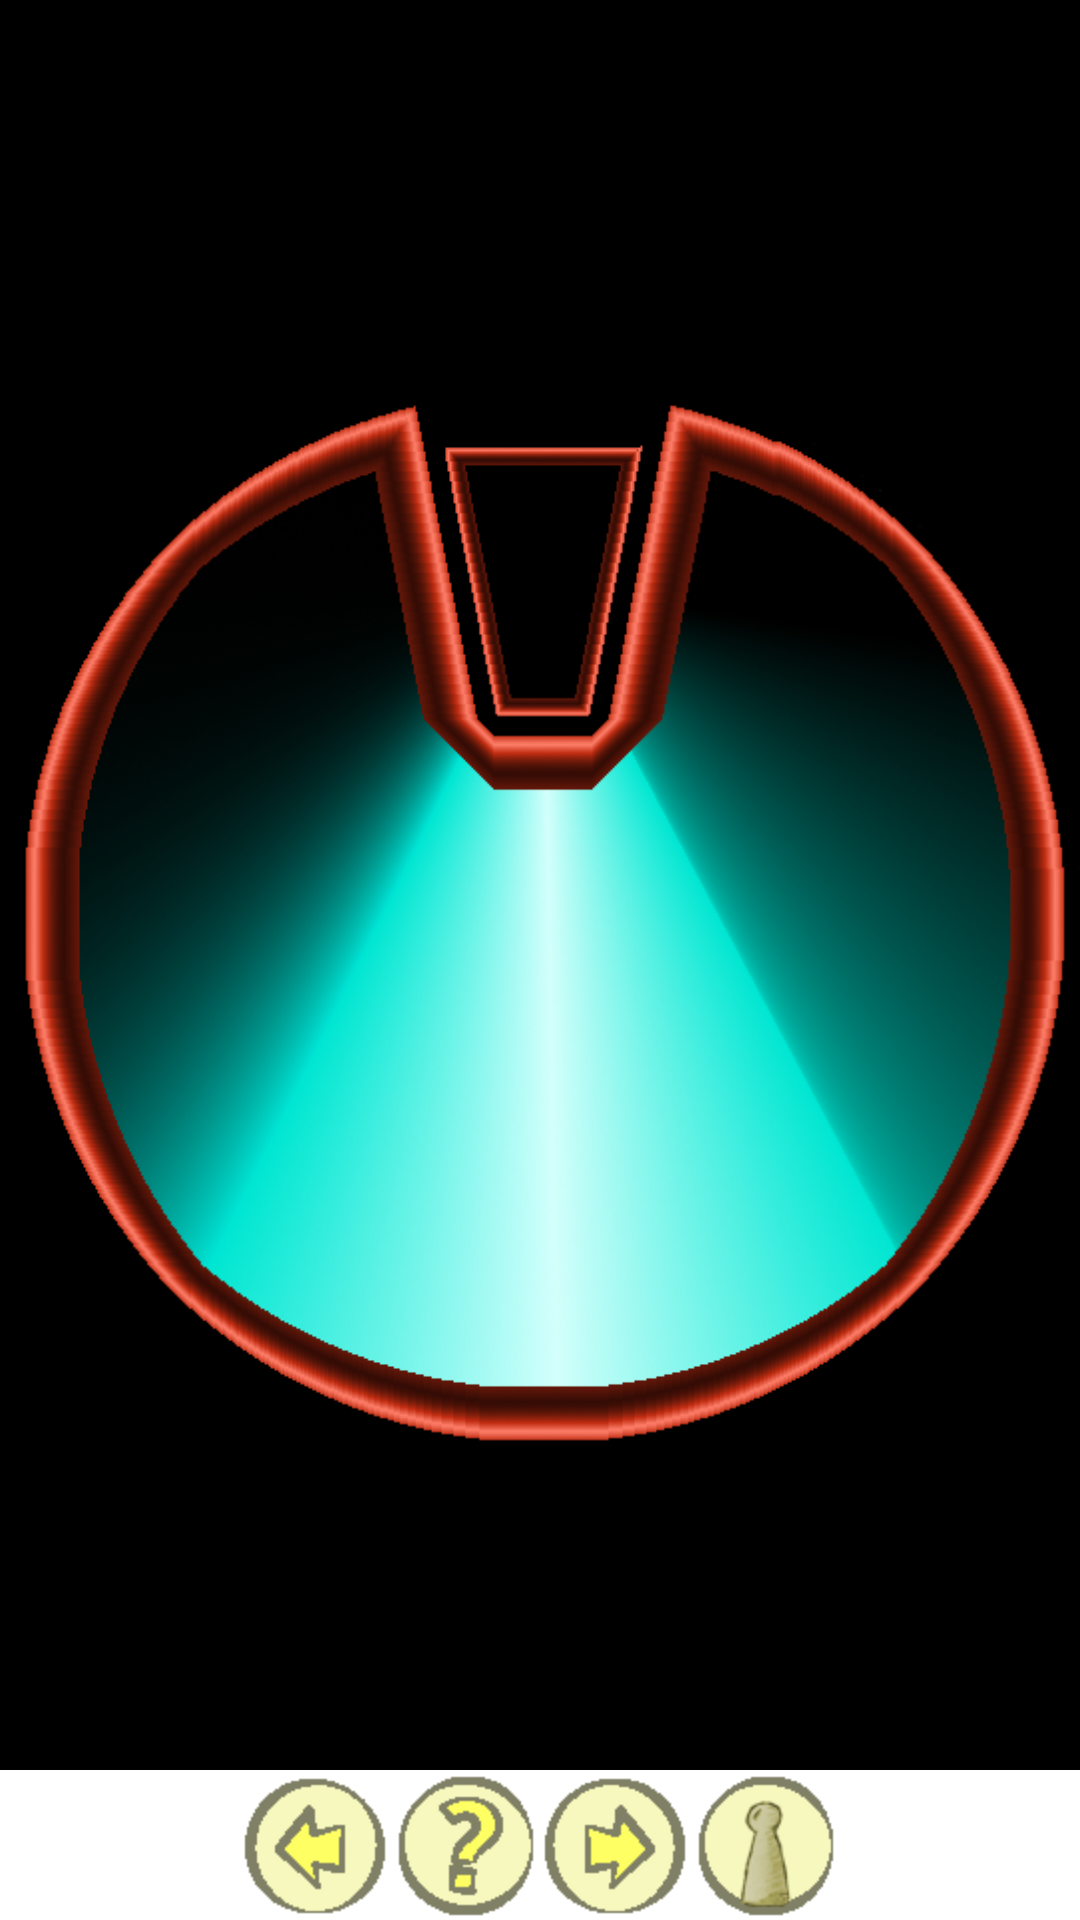

Locate icon controls on the screen. Image size 1080w x 1920h, boxes as [x1=x1, y1=y1, x2=x2, y2=y2].
Left: [x1=244, y1=1778, x2=386, y2=1914]
Random: [x1=398, y1=1776, x2=534, y2=1916]
Right: [x1=544, y1=1778, x2=686, y2=1914]
